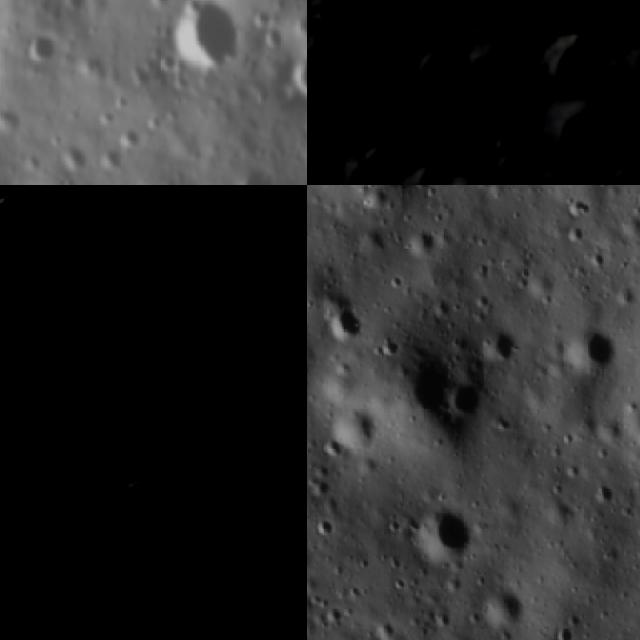crater: (212, 243, 307, 421), (520, 8, 626, 121), (546, 94, 633, 180), (92, 568, 190, 640), (198, 391, 280, 473), (94, 432, 176, 513), (257, 415, 307, 524), (170, 2, 240, 71), (121, 189, 190, 258), (402, 36, 466, 107), (80, 217, 144, 280), (1, 218, 63, 280), (307, 122, 366, 180), (59, 380, 115, 435), (416, 504, 471, 558), (307, 86, 354, 149), (348, 137, 408, 185), (323, 46, 376, 100), (307, 26, 353, 86), (476, 140, 532, 185), (307, 0, 367, 36), (562, 328, 616, 364), (325, 412, 371, 453), (50, 185, 119, 210), (28, 30, 64, 70), (109, 185, 162, 212), (446, 378, 480, 416), (478, 594, 515, 628), (282, 49, 307, 98), (328, 308, 365, 341), (225, 166, 283, 185), (624, 33, 640, 99), (98, 142, 126, 174), (0, 185, 25, 220), (361, 0, 412, 16), (118, 121, 146, 148), (547, 618, 579, 640), (0, 175, 41, 185), (439, 177, 483, 185)
